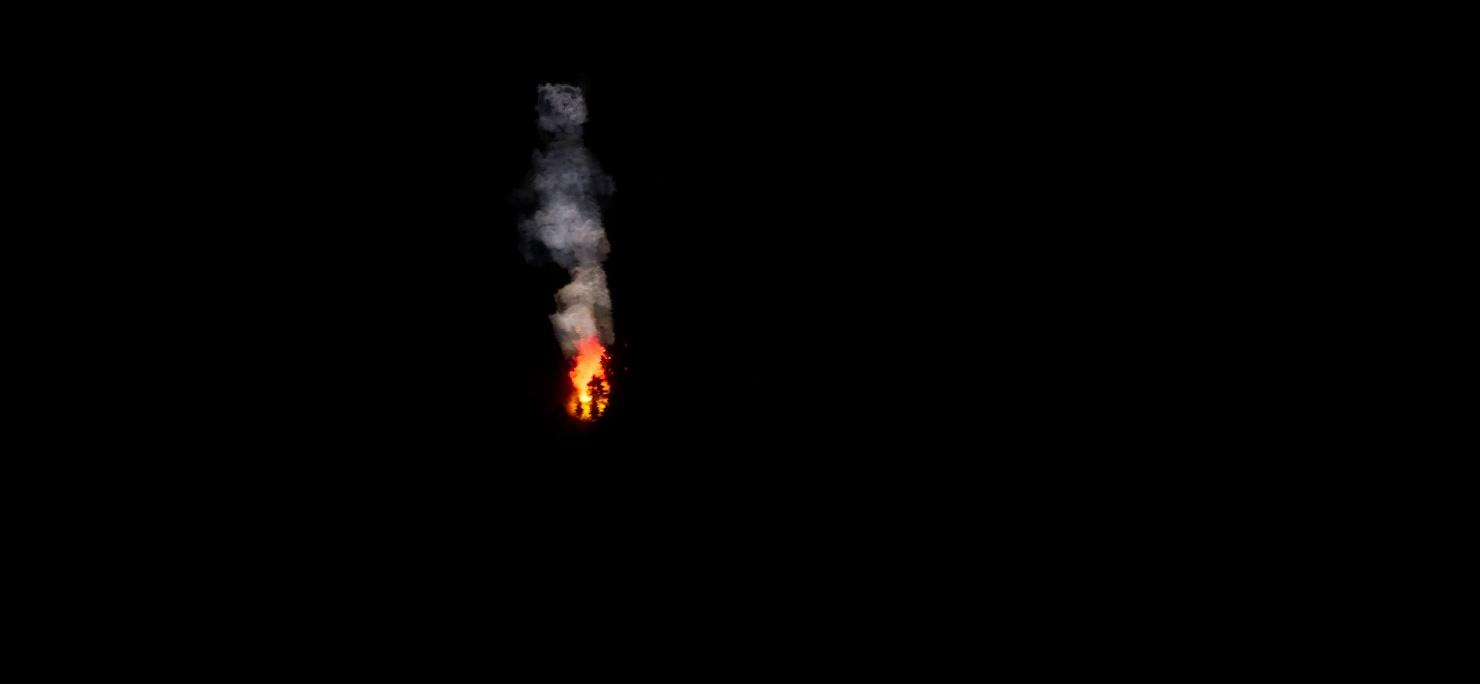fire: (557, 327, 618, 419)
smoke: (521, 83, 616, 332)
